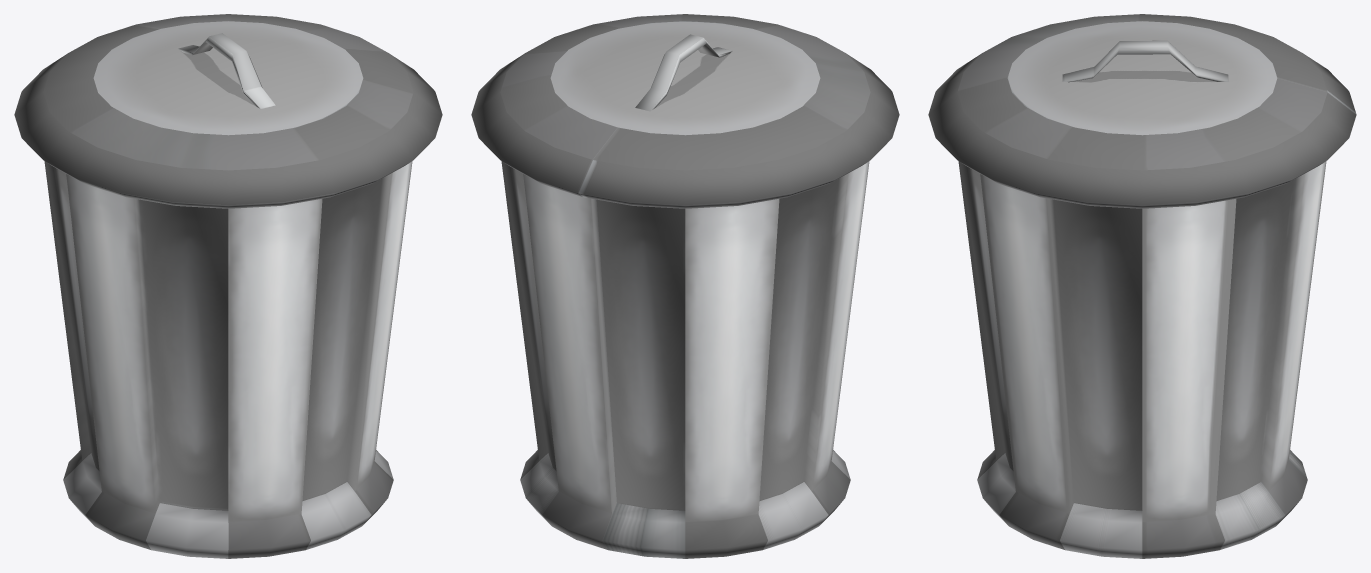
Rendered from CityKit_TrashCan.fbx.
3 renders of one model, left to right at view 1: azimuth 30°, elevation 25°; view 2: azimuth 150°, elevation 25°; view 3: azimuth 270°, elevation 25°, orthographic.
Parts seen in each view (by area): view 1: TrashCan; view 2: TrashCan; view 3: TrashCan.
Boxes of the visible parts, <box> form: TrashCan: <box>14,14,442,558</box>; TrashCan: <box>471,14,899,558</box>; TrashCan: <box>928,14,1356,558</box>.
Bounding box in the file's own units: 225 × 261 × 225.
Materials: 1 (1 with a texture image).
